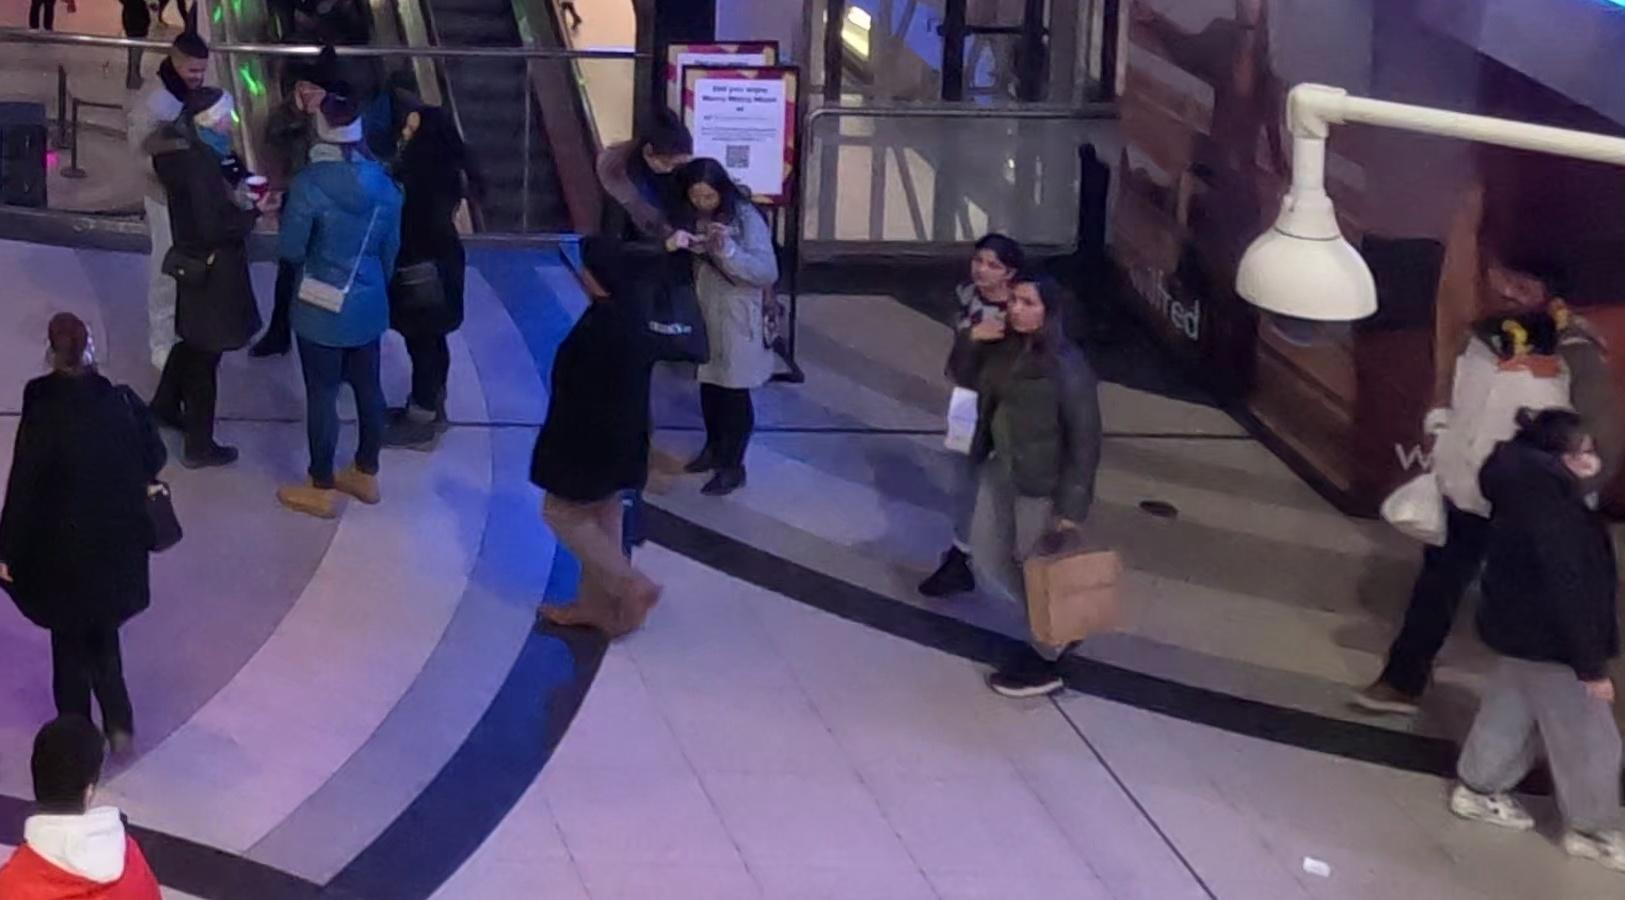person: (1407, 380, 1625, 880), (7, 304, 163, 808), (954, 266, 1113, 705), (281, 103, 412, 522), (541, 233, 669, 645), (141, 76, 264, 487), (566, 122, 684, 530), (671, 147, 795, 506), (379, 112, 477, 446)
